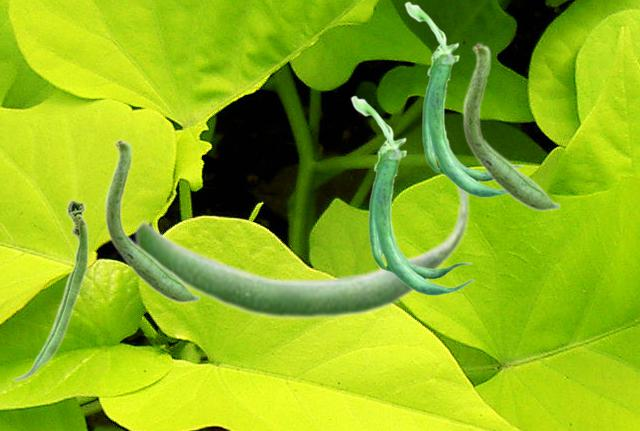french_bean: (133, 180, 470, 321), (350, 95, 473, 295), (404, 1, 524, 197), (462, 41, 560, 211), (104, 137, 200, 303), (11, 198, 88, 381)
